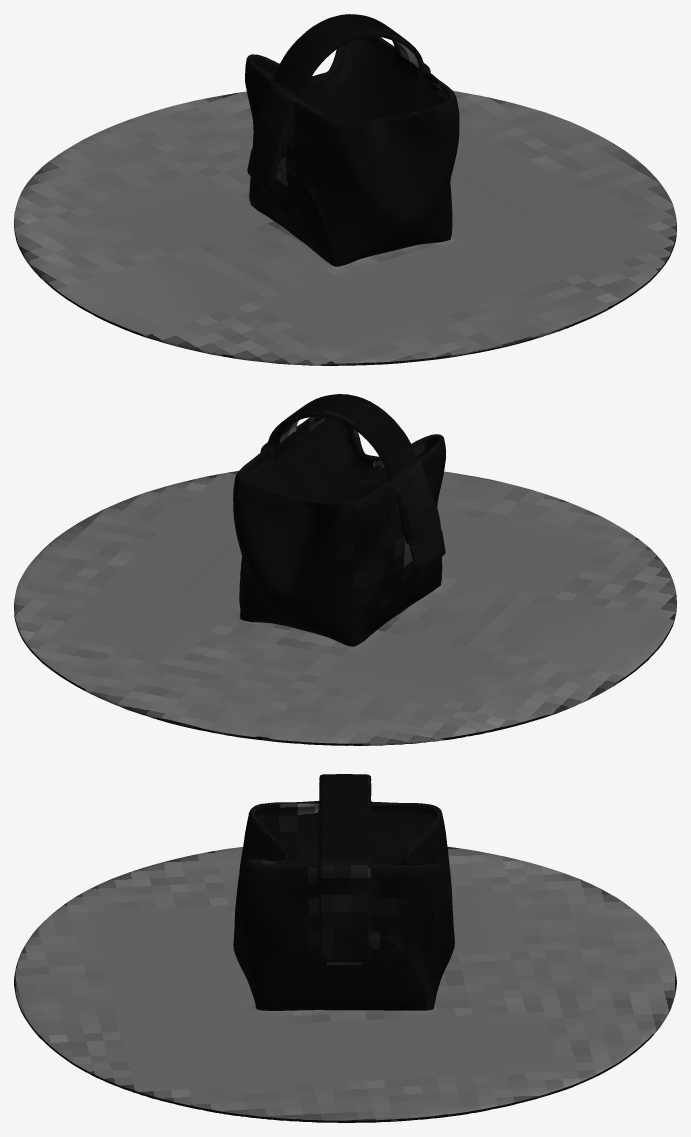
File: acessorios-tiny-textures.glb
The picture shows the model from 3 angles, top to bottom: view 1: azimuth 30°, elevation 25°; view 2: azimuth 150°, elevation 25°; view 3: azimuth 270°, elevation 25°; orthographic projection.
Parts seen in each view (by area): view 1: textured_mesh; view 2: textured_mesh; view 3: textured_mesh.
Boxes of the visible parts, x1,y1,x2,y2 form: textured_mesh: (14, 14, 676, 365); textured_mesh: (14, 394, 676, 745); textured_mesh: (14, 774, 676, 1122).
Bounding box in the file's own units: 1.99 × 0.6784 × 1.99.
Materials: 1 (1 with a texture image).
